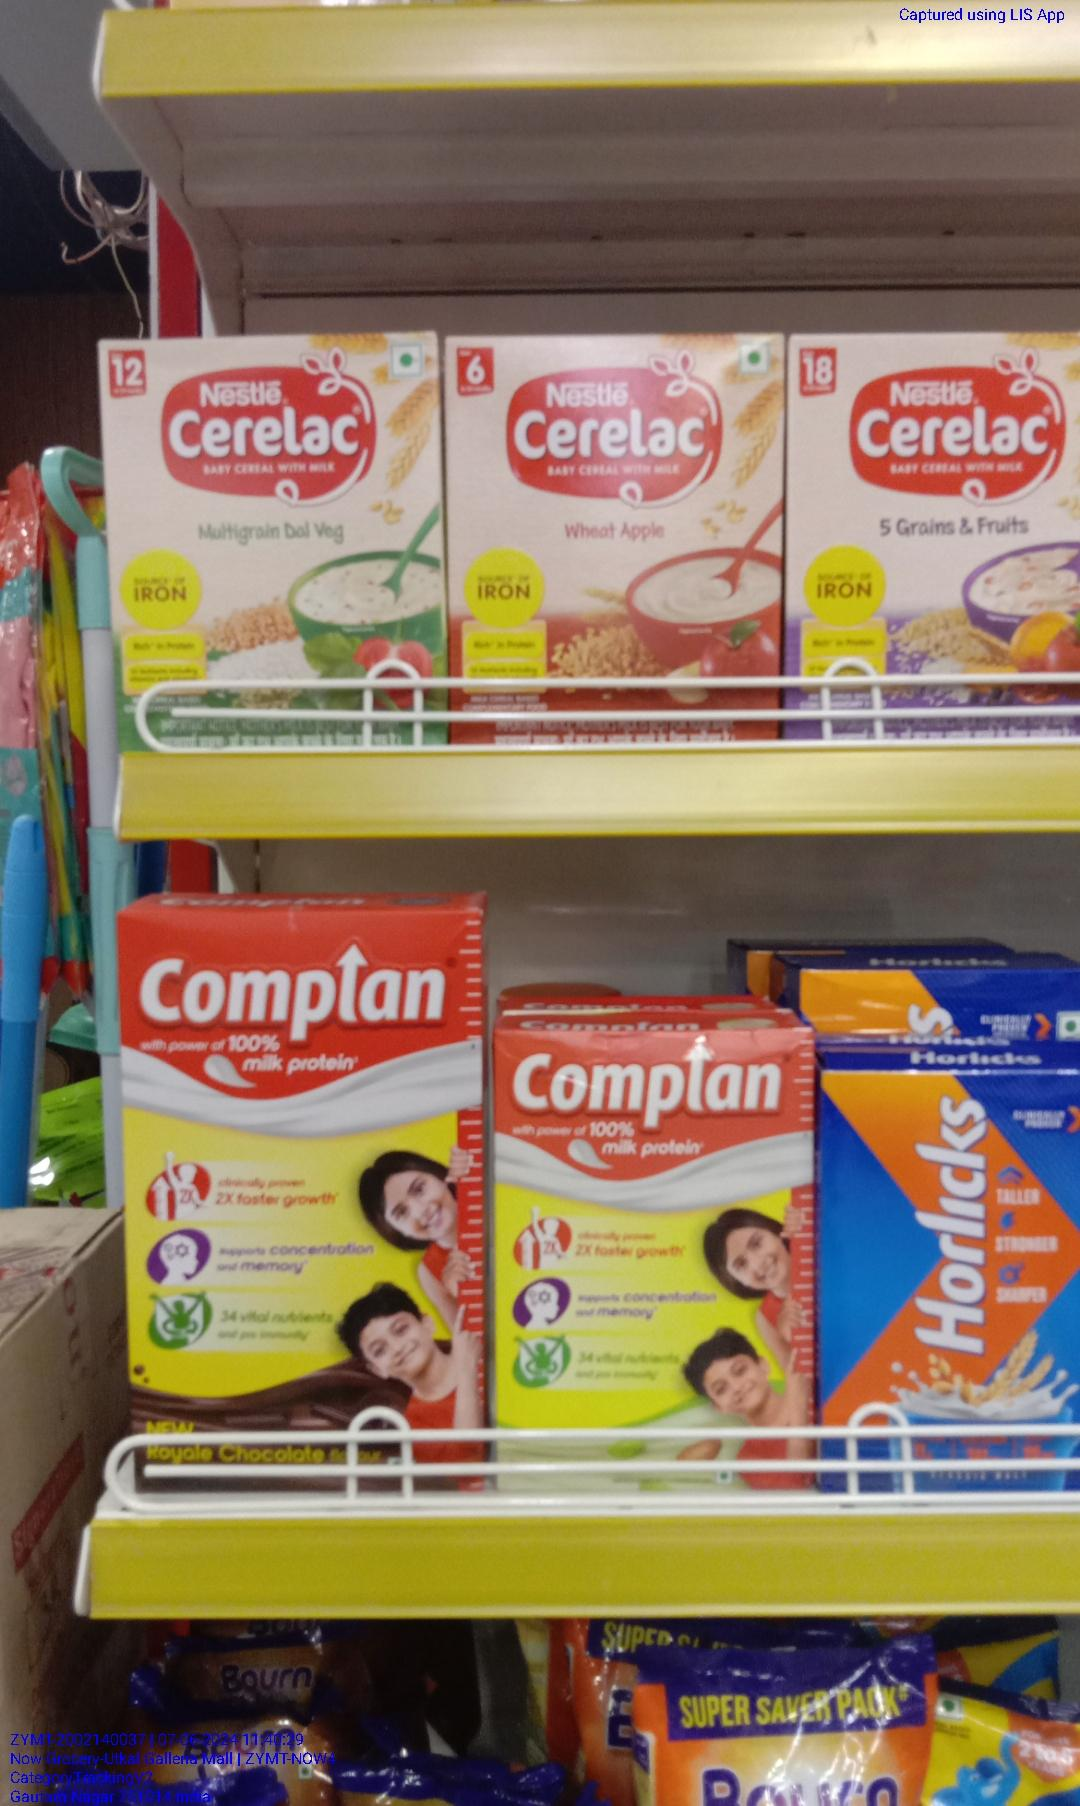COMPLAN_CHOCOLATE_500_GMS_PACK: (130, 901, 487, 1481)
COMPLAN_PISTA_BADAM_500_GMS_PACK: (489, 1024, 820, 1490)
HORLICK_CLASSIC_MALT_500_G_PACK: (829, 1050, 1080, 1489)
